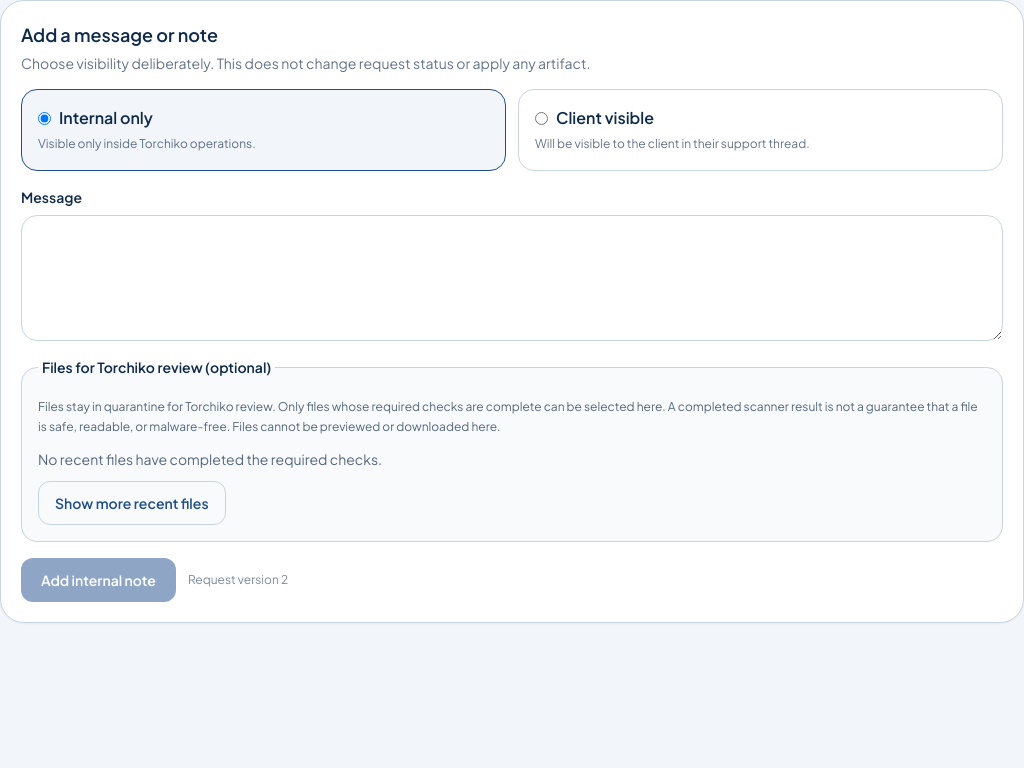
Test: support operations UI › bounds support attachment pagination and preserves the draft after a deadline
The image size is (1024, 768).
Step 1. Type "Keep this draft" into the text box labelled "Message" → x=512, y=278, box [21, 215, 1003, 341]
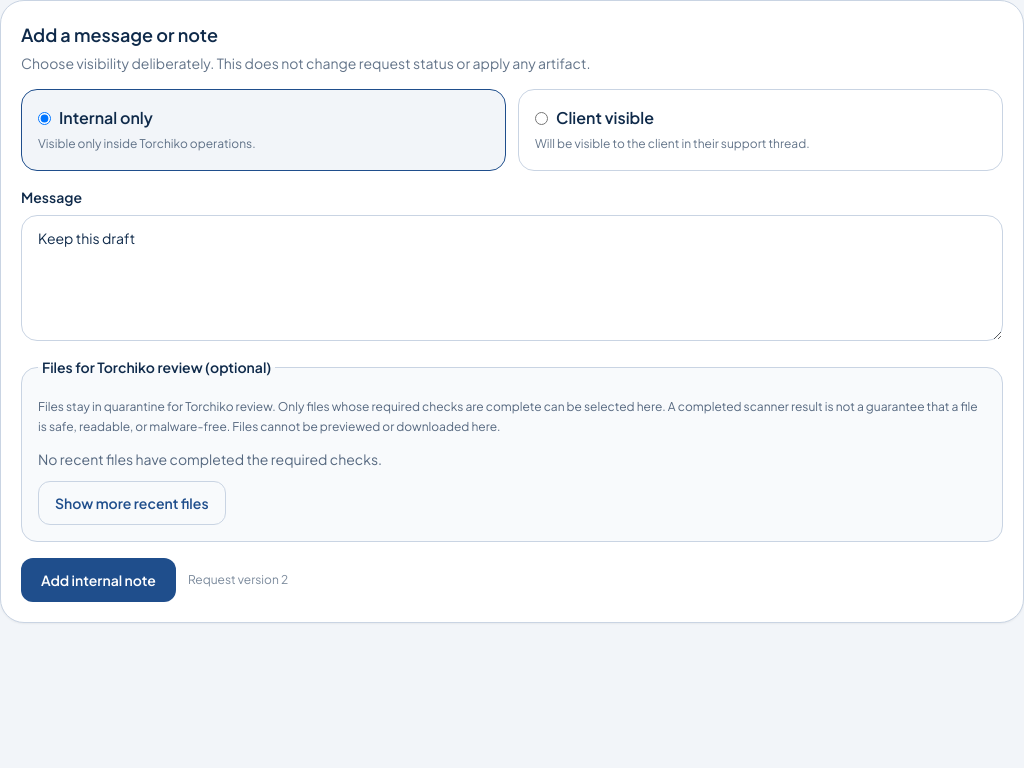
Step 2. Click the button "Show more recent files" → x=132, y=503, box [38, 481, 226, 525]
Wait 15000 ms
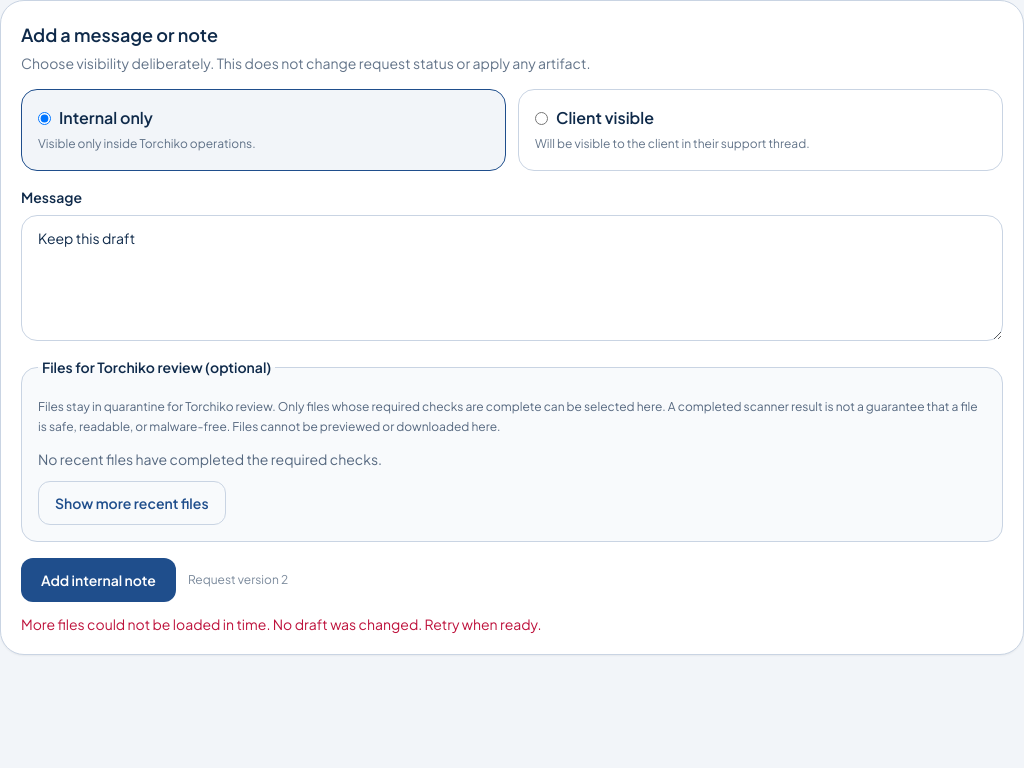
Check: the message shows "could not be loaded in time", box [21, 615, 542, 633]
